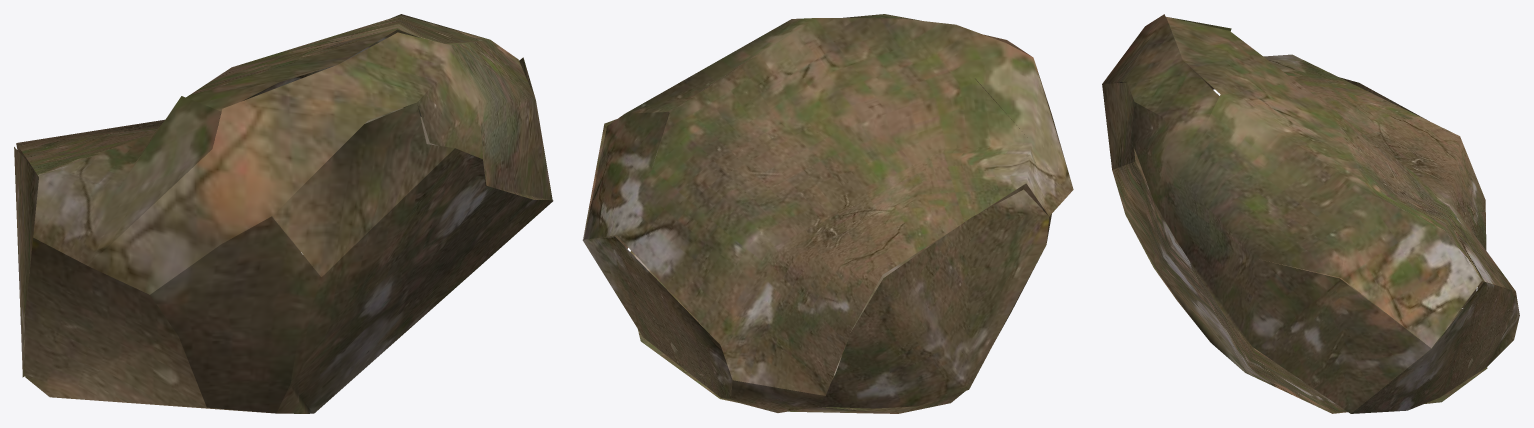
The model's file is rock_008.glb.
3 renders of one model, left to right at view 1: azimuth 30°, elevation 25°; view 2: azimuth 150°, elevation 25°; view 3: azimuth 270°, elevation 25°, orthographic. The views are drawn at different scales.
Parts seen in each view (by area): view 1: rock.008; view 2: rock.008; view 3: rock.008.
Boxes of the visible parts, x1,y1,x2,y2 form: rock.008: (14, 14, 553, 413); rock.008: (582, 14, 1073, 413); rock.008: (1102, 14, 1519, 413).
Size of the model in its own units: 0.9484 by 0.6824 by 0.8009.
1 material, 1 textured.
